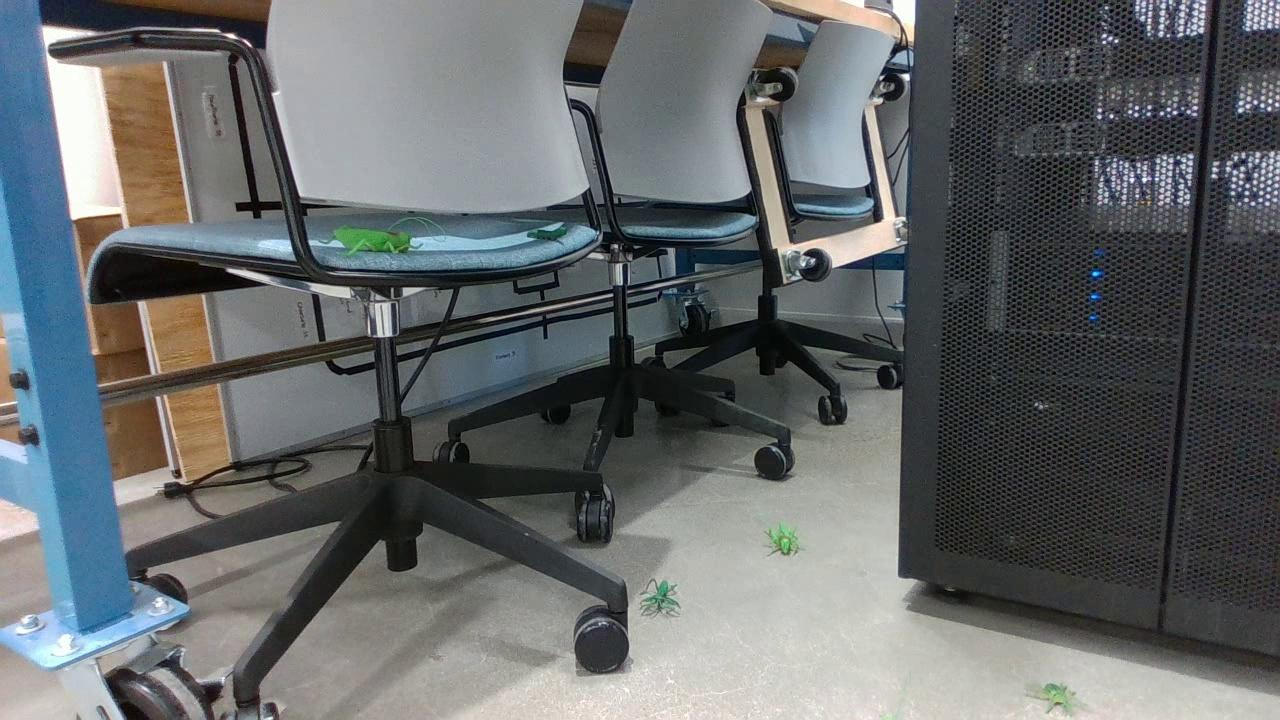grasshopper: (330, 224, 416, 258), (767, 518, 799, 559)
